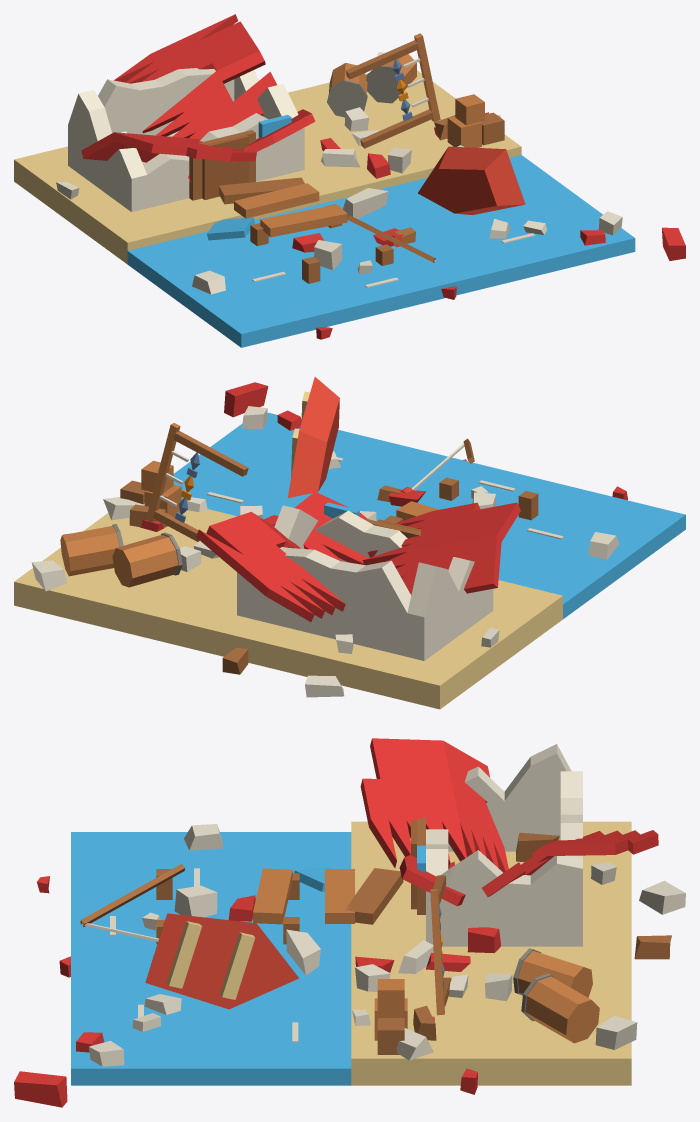
Rendered from fishery_t2_v3_dmg2.glb.
3 views of the same model, one above another, from view 1: azimuth 30°, elevation 25°; view 2: azimuth 150°, elevation 25°; view 3: azimuth 270°, elevation 25° (orthographic). The views are drawn at different scales.
Visible parts, largest first — view 1: fishery_t2_v3_dmg2; view 2: fishery_t2_v3_dmg2; view 3: fishery_t2_v3_dmg2.
Boxes of the visible parts, x1,y1,x2,y2 form: fishery_t2_v3_dmg2: (14, 14, 685, 347); fishery_t2_v3_dmg2: (14, 377, 685, 709); fishery_t2_v3_dmg2: (14, 738, 685, 1107).
Size of the model in its own units: 0.8259 by 0.2291 by 0.899.
Materials: 1 (1 with a texture image).
